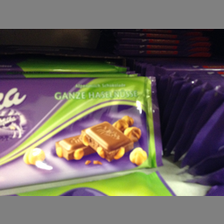chocolate: (1, 78, 159, 189)
